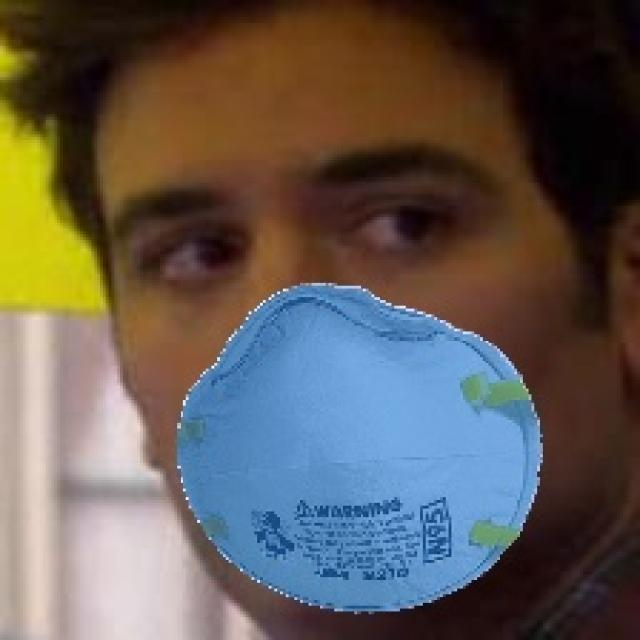mask: (164, 252, 536, 615)
